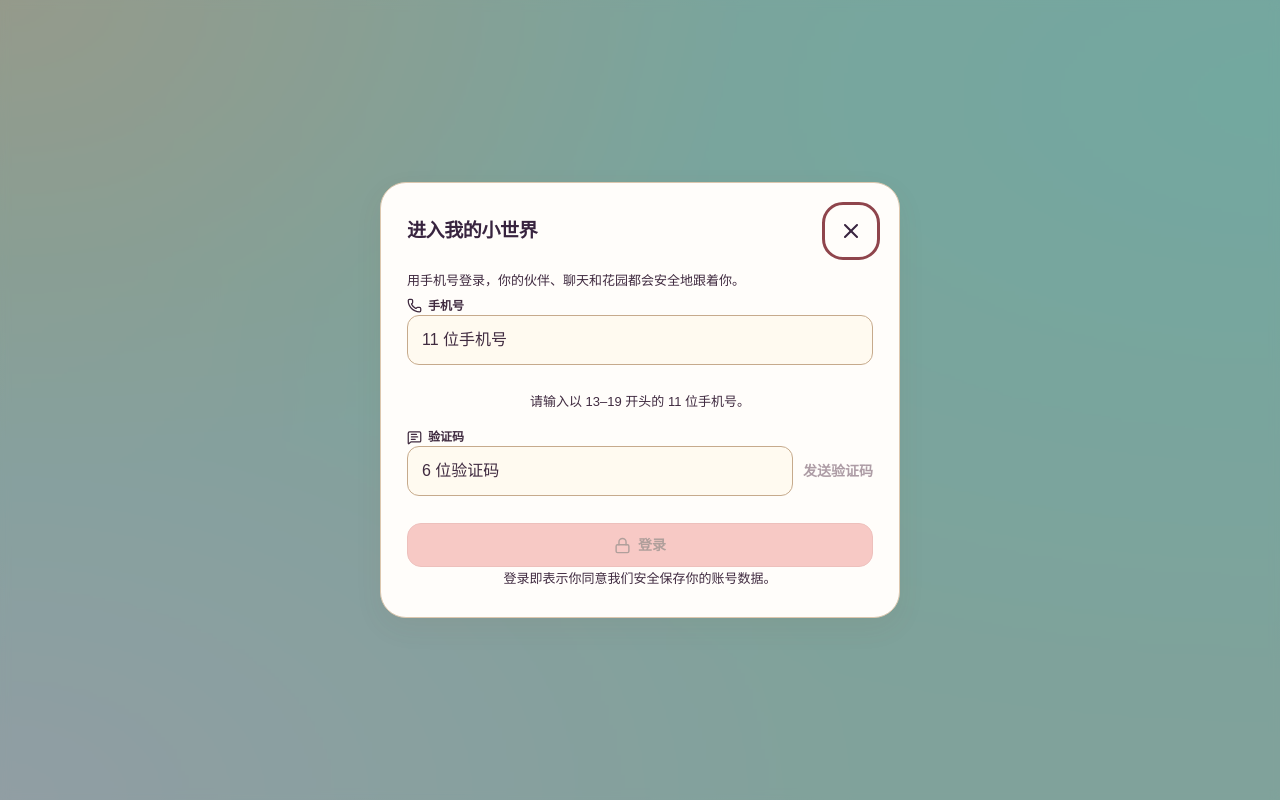
shows a cooldown after server throttling instead of allowing repeated clicks
In the field with placeholder "11 位手机号": (640, 340) [407, 315, 873, 365], type "13900000131"
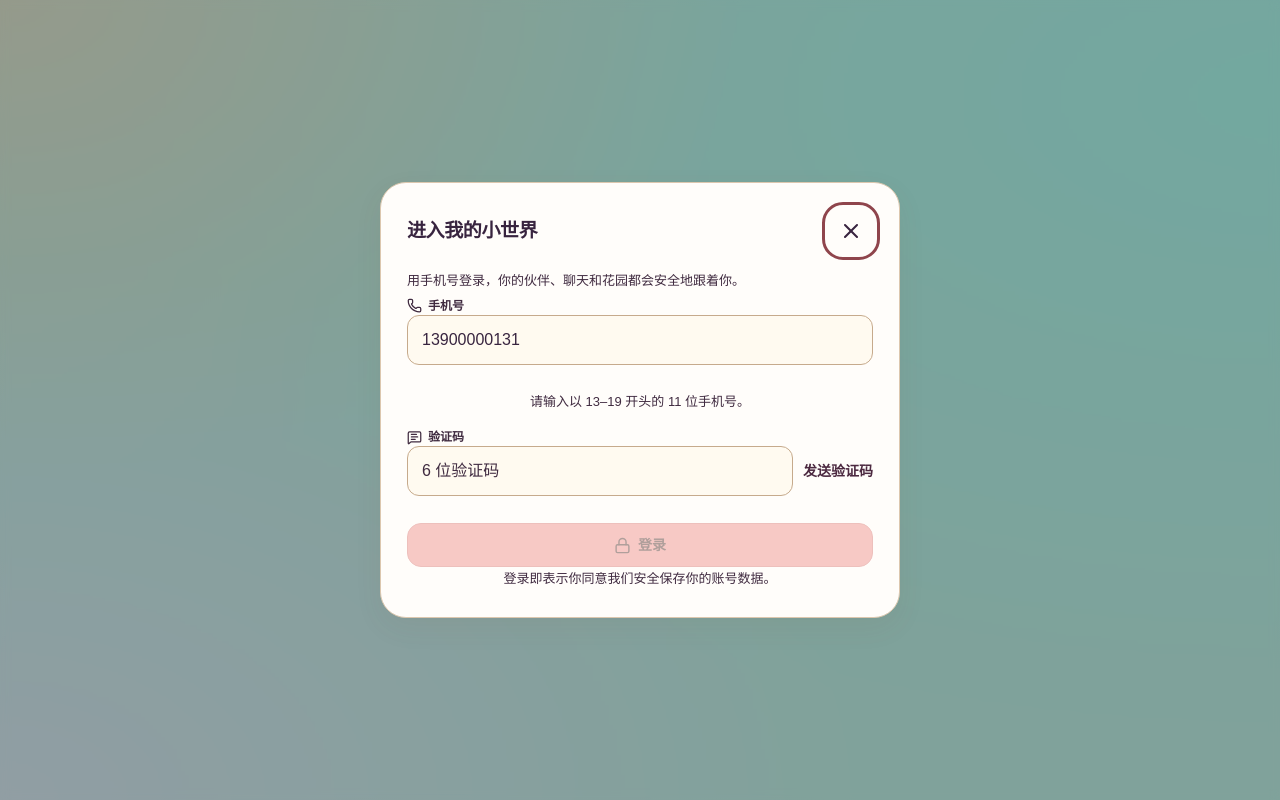
Click the button "发送验证码": (838, 471) [803, 449, 873, 493]
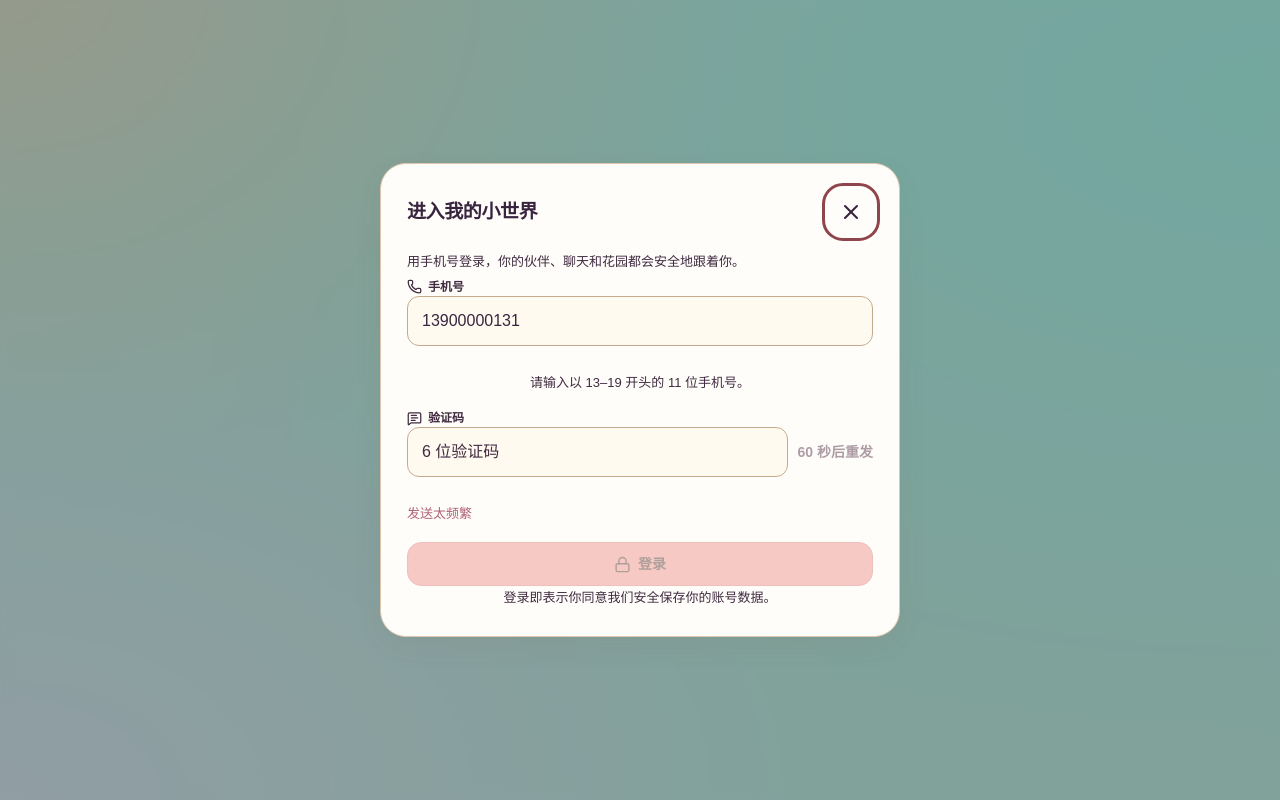
Check: the button "60 秒后重发" is disabled, box [798, 430, 873, 474]
Check: the message reads "发送太频繁", box [407, 506, 472, 521]
